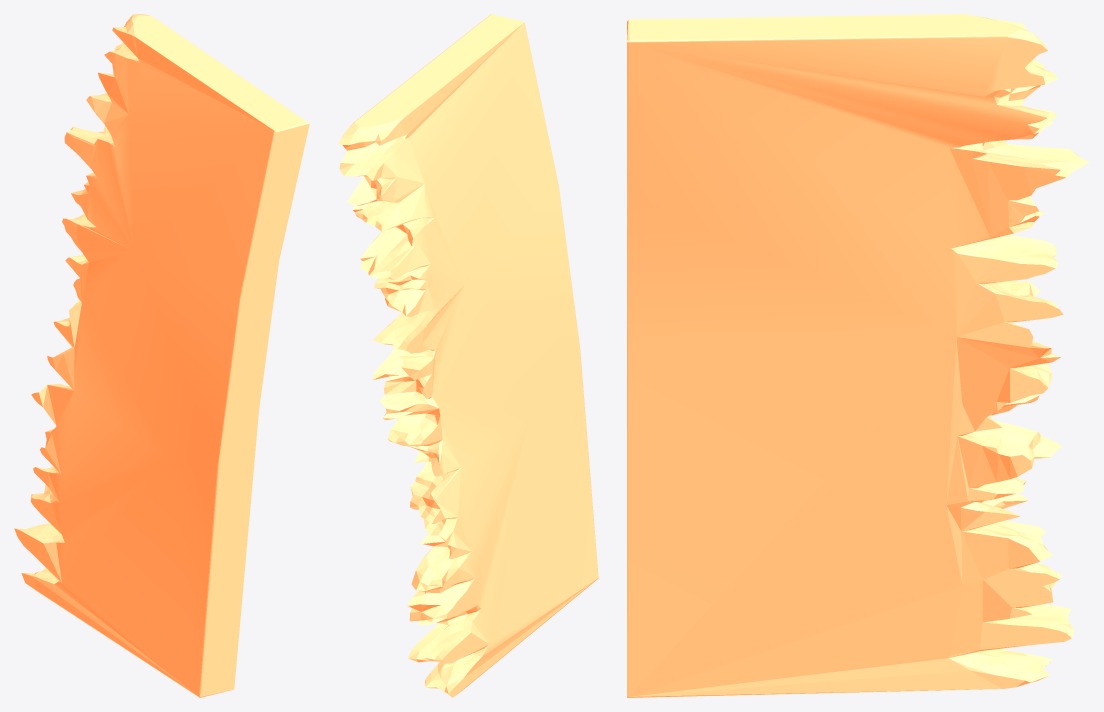
Rendered from SM_Wall_CannonStern02.fbx.
3 renders of one model, left to right at view 1: azimuth 30°, elevation 25°; view 2: azimuth 150°, elevation 25°; view 3: azimuth 270°, elevation 25°, orthographic. The views are drawn at different scales.
Parts seen in each view (by area): view 1: SM_Wall_CannonStern02_LOD0; view 2: SM_Wall_CannonStern02_LOD0; view 3: SM_Wall_CannonStern02_LOD0.
Boxes of the visible parts, bbox=[...] form: SM_Wall_CannonStern02_LOD0: bbox=[14, 14, 309, 697]; SM_Wall_CannonStern02_LOD0: bbox=[338, 14, 598, 697]; SM_Wall_CannonStern02_LOD0: bbox=[627, 14, 1089, 697].
Bounding box in the file's own units: 70.44 × 179 × 300.
